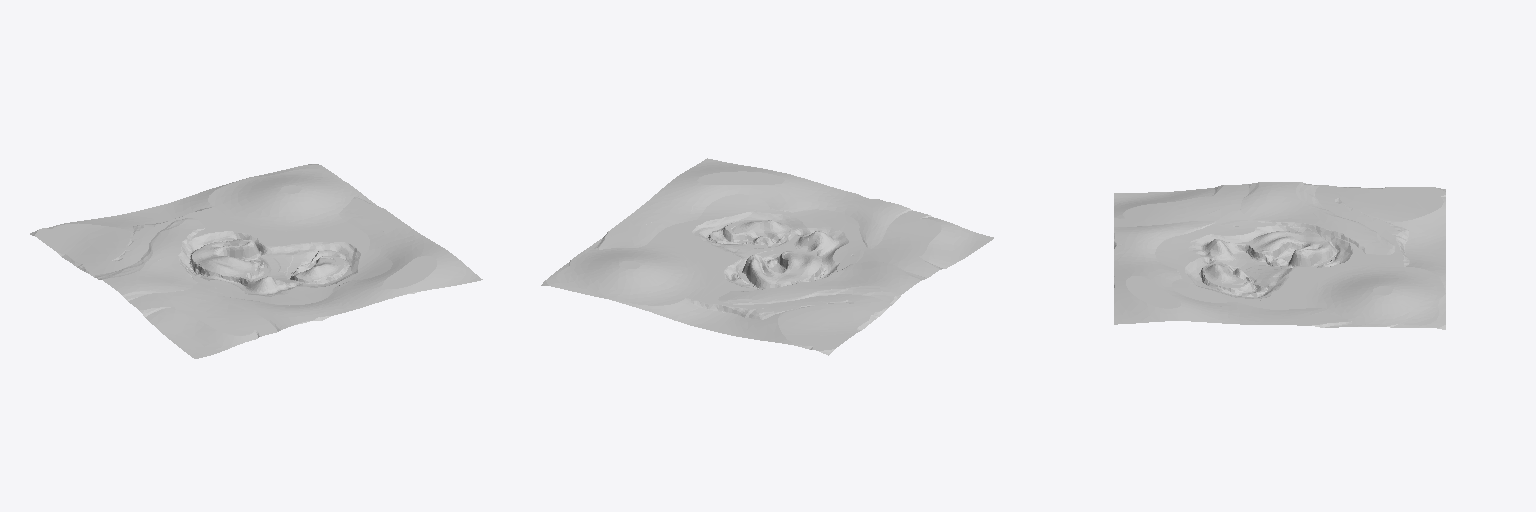
Rendered from Terrain_06_LP.obj.
The picture shows the model from 3 angles: view 1: azimuth 30°, elevation 25°; view 2: azimuth 150°, elevation 25°; view 3: azimuth 270°, elevation 25°; orthographic projection.
Visible parts, largest first — view 1: Terrain_06.001; view 2: Terrain_06.001; view 3: Terrain_06.001.
Part boxes in pixels (x1,y1,x2,y2): Terrain_06.001: (30, 164, 482, 358); Terrain_06.001: (541, 158, 993, 355); Terrain_06.001: (1114, 182, 1445, 329).
Bounding box in the file's own units: 200 × 10.1 × 200.